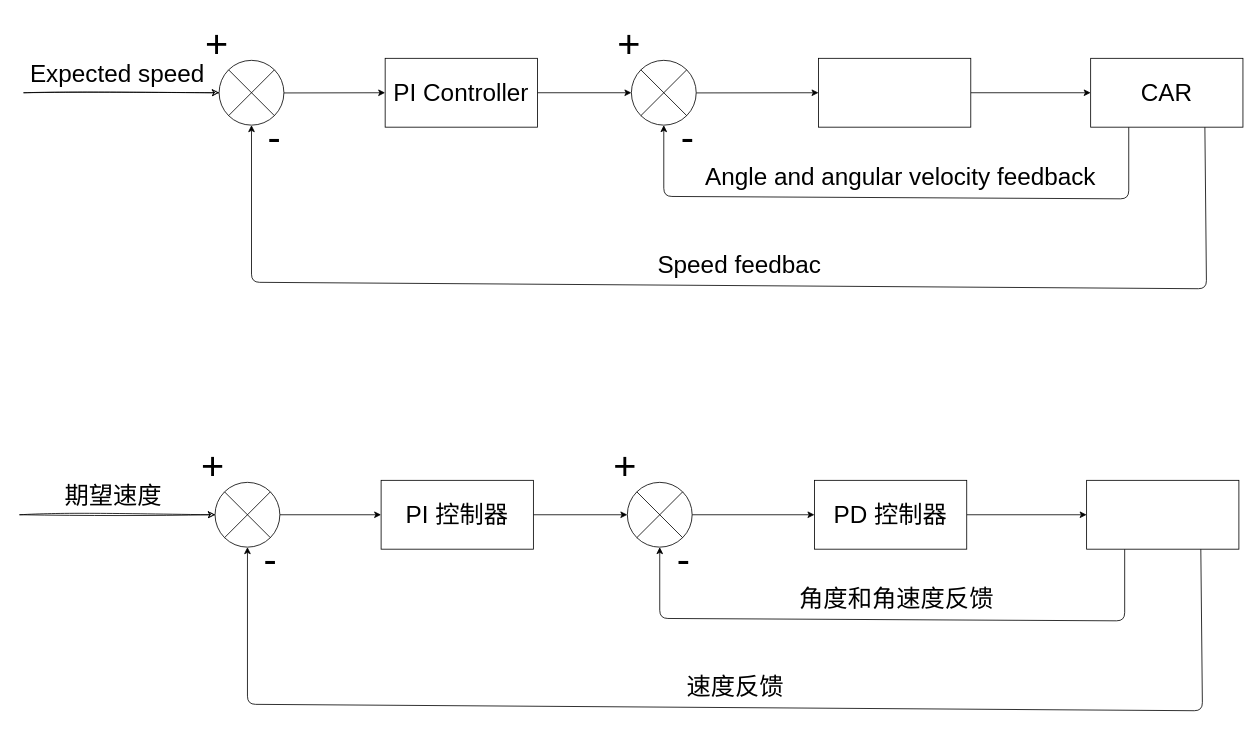
Some shapes in this 1257 by 731 pixel diagram are drawn without their labels. The shapes that lost their labels are listed below. From the top down, each one's centre as x and y in pixels, then its label:
At point 894,92: "PD Controller".
At point 1162,514: "平衡车".
